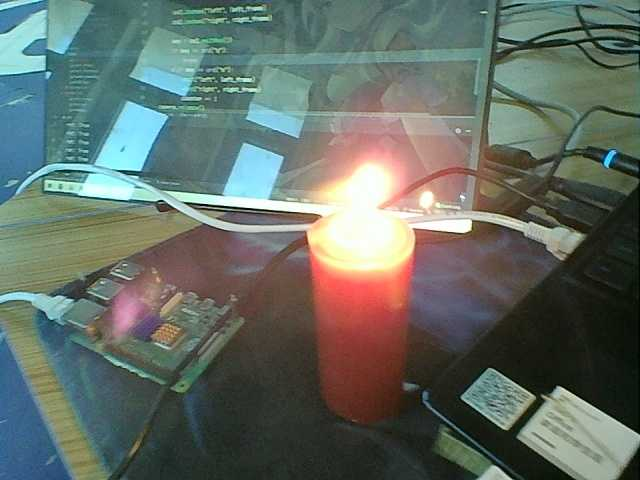candle: (306, 260, 413, 423)
fire: (322, 159, 409, 257)
